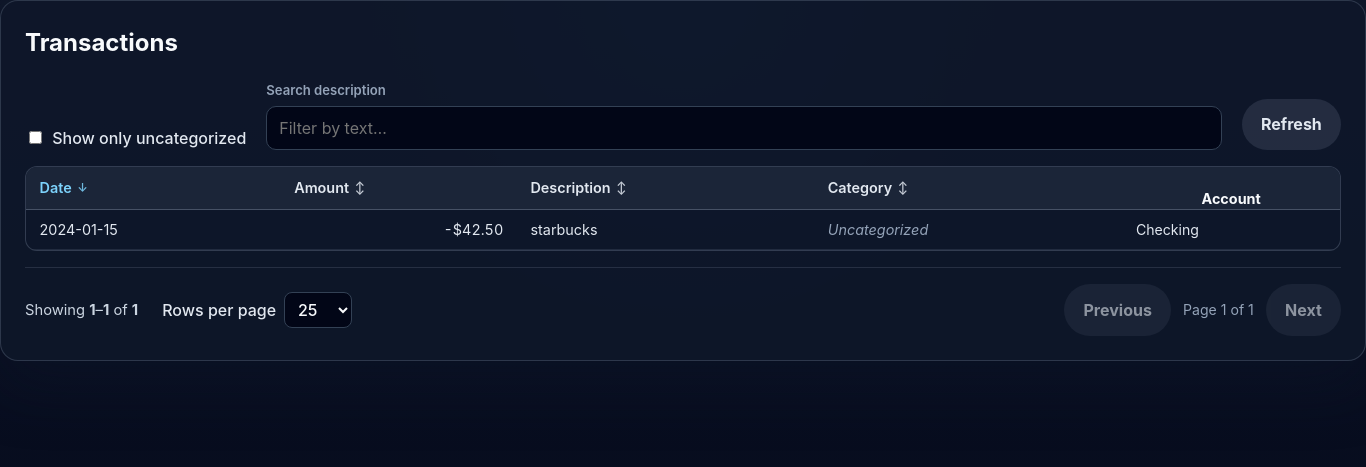
Test: TransactionsPage › shows a category-load error and a Retry button when /categories fails
The image size is (1366, 467).
Note: Expand the row to see the correction UI
Click the text "starbucks" at (564, 229), box [517,210,814,250]
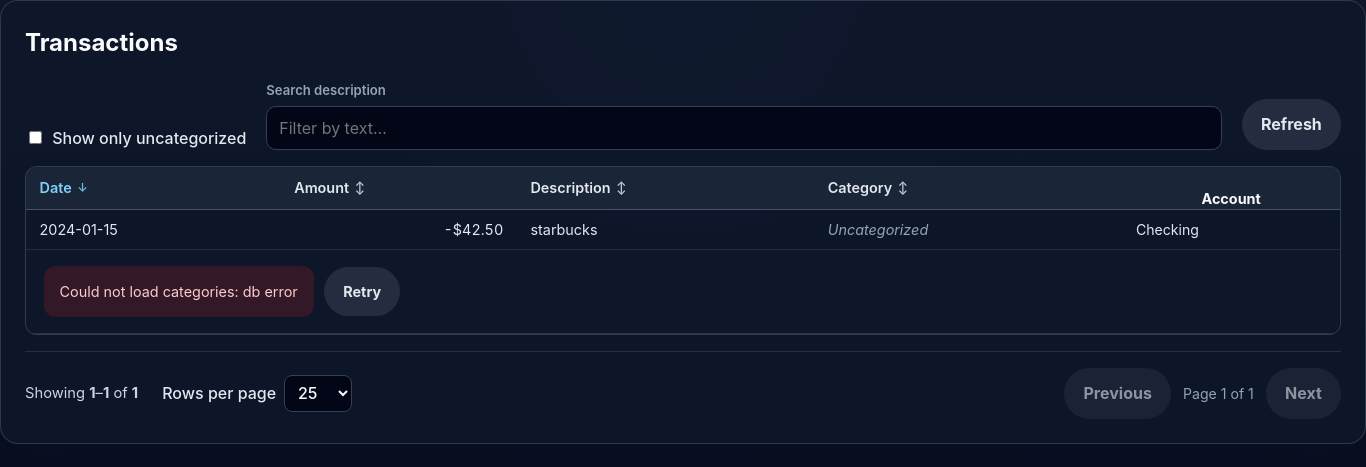
Check: the text "Could not load categories: db error" is shown, box [44,266,314,317]
Check: the button "Retry" is shown, box [324,267,400,316]
